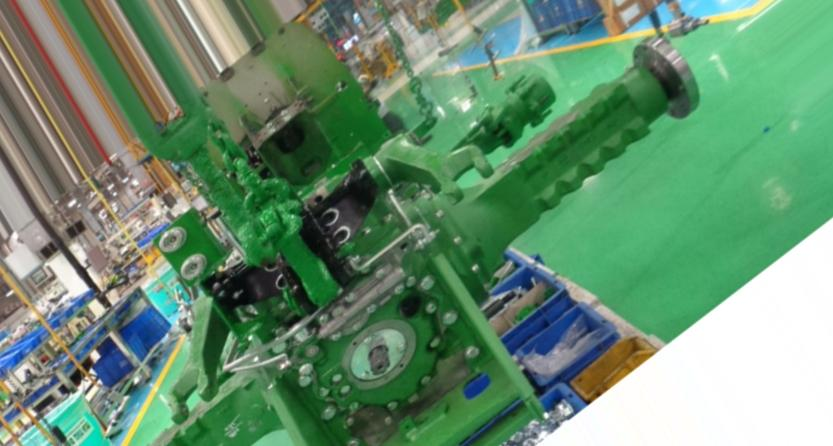engine: (132, 34, 700, 446)
